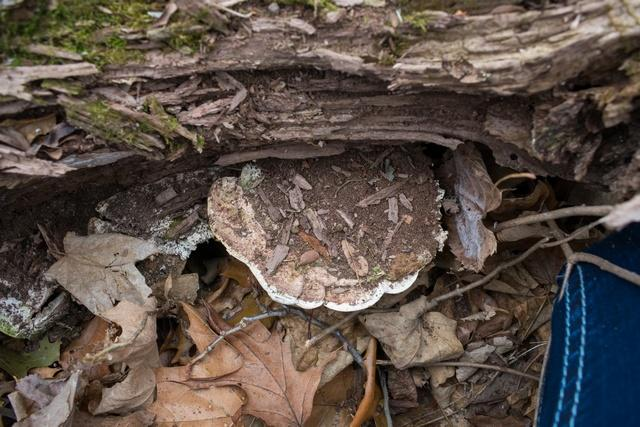Non-edible Mushroom: (205, 145, 449, 313)
